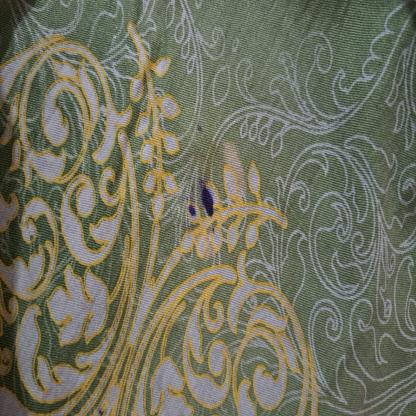spot: (195, 171, 218, 217), (184, 192, 203, 228), (196, 116, 207, 143)
